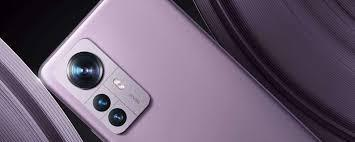Smartphone: (61, 0, 318, 142)
